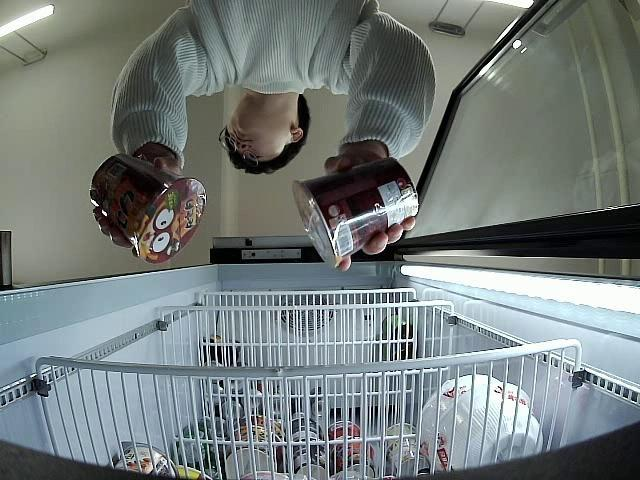06_nuguri_S: (295, 158, 418, 266), (91, 156, 206, 263)
